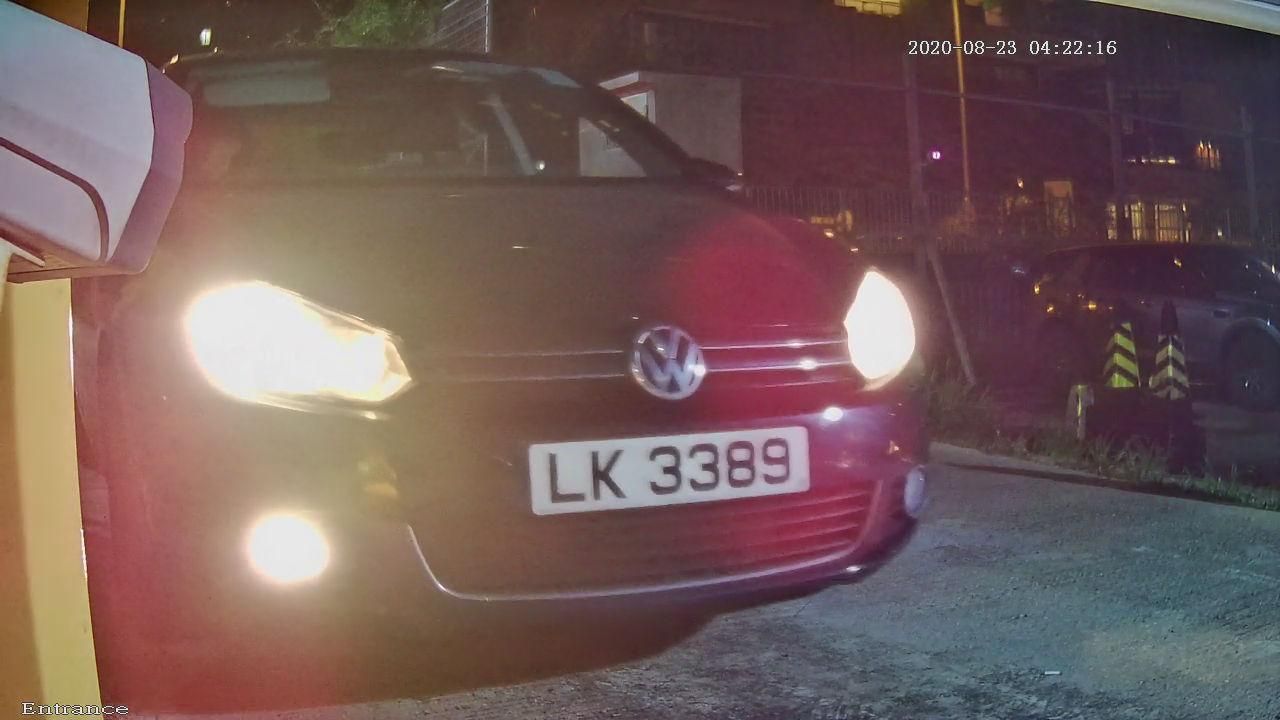Car: (52, 29, 1063, 679)
License Plate: (463, 380, 895, 546)
